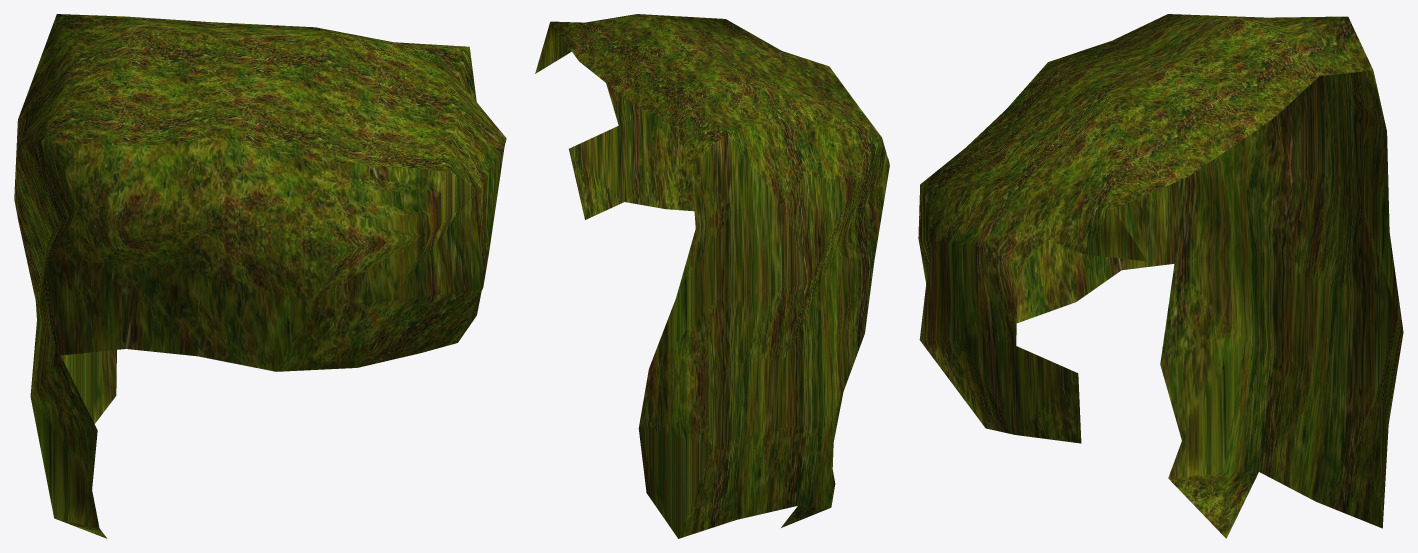
File: TROLLHOLE02_RM_PSURF158.fbx
3 views of the same model, side by side, from view 1: azimuth 30°, elevation 25°; view 2: azimuth 150°, elevation 25°; view 3: azimuth 270°, elevation 25° (orthographic). The views are drawn at different scales.
Visible parts, largest first — view 1: TROLLHOLE02_RM_PSURF158; view 2: TROLLHOLE02_RM_PSURF158; view 3: TROLLHOLE02_RM_PSURF158.
Part boxes in pixels (left/top/right/bottom): TROLLHOLE02_RM_PSURF158: left=14, top=14, right=506, bottom=538; TROLLHOLE02_RM_PSURF158: left=535, top=14, right=889, bottom=538; TROLLHOLE02_RM_PSURF158: left=918, top=14, right=1403, bottom=538.
Size of the model in its own units: 96492 by 115323 by 93500.
1 material, 1 textured.
